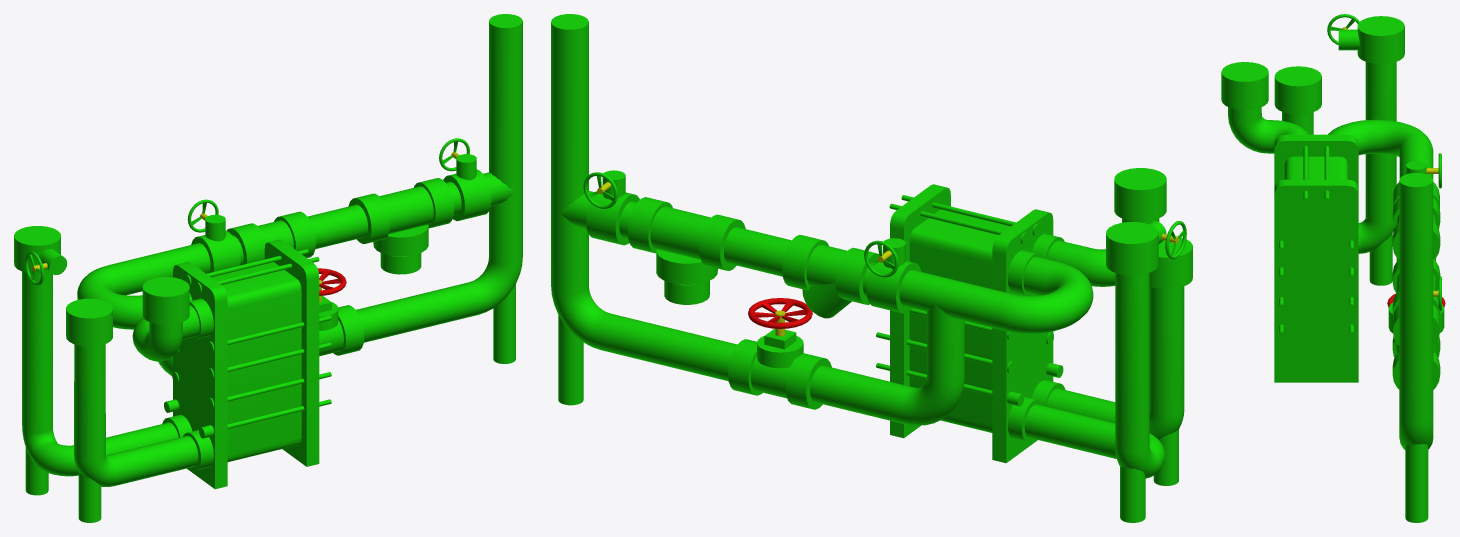
Rendered from Heat Exchanger_01.fbx.
The picture shows the model from 3 angles, left to right: view 1: azimuth 30°, elevation 25°; view 2: azimuth 150°, elevation 25°; view 3: azimuth 270°, elevation 25°; orthographic projection. The views are drawn at different scales.
Visible parts, largest first — view 1: Heat Exchanger #1; view 2: Heat Exchanger #1; view 3: Heat Exchanger #1.
Part boxes in pixels (x1,y1,x2,y2): Heat Exchanger #1: [14, 14, 522, 522]; Heat Exchanger #1: [551, 14, 1192, 522]; Heat Exchanger #1: [1221, 14, 1445, 522].
Size of the model in its own units: 5181 by 3201 by 1920.
